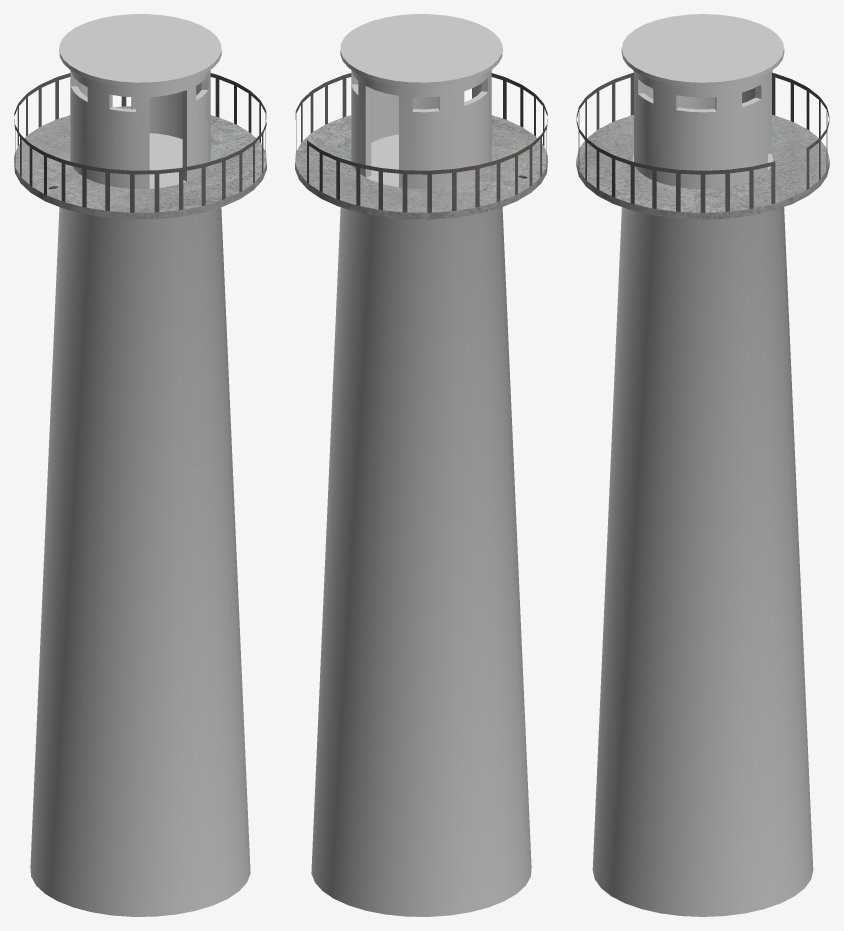
The model's file is tower.fbx.
3 views of the same model, side by side, from view 1: azimuth 30°, elevation 25°; view 2: azimuth 150°, elevation 25°; view 3: azimuth 270°, elevation 25° (orthographic).
Visible parts, largest first — view 1: Tower; view 2: Tower; view 3: Tower.
Part boxes in pixels (<box>): Tower: <box>14,14,266,916</box>; Tower: <box>295,14,547,916</box>; Tower: <box>576,14,829,916</box>.
Size of the model in its own units: 801 by 2868 by 801.
